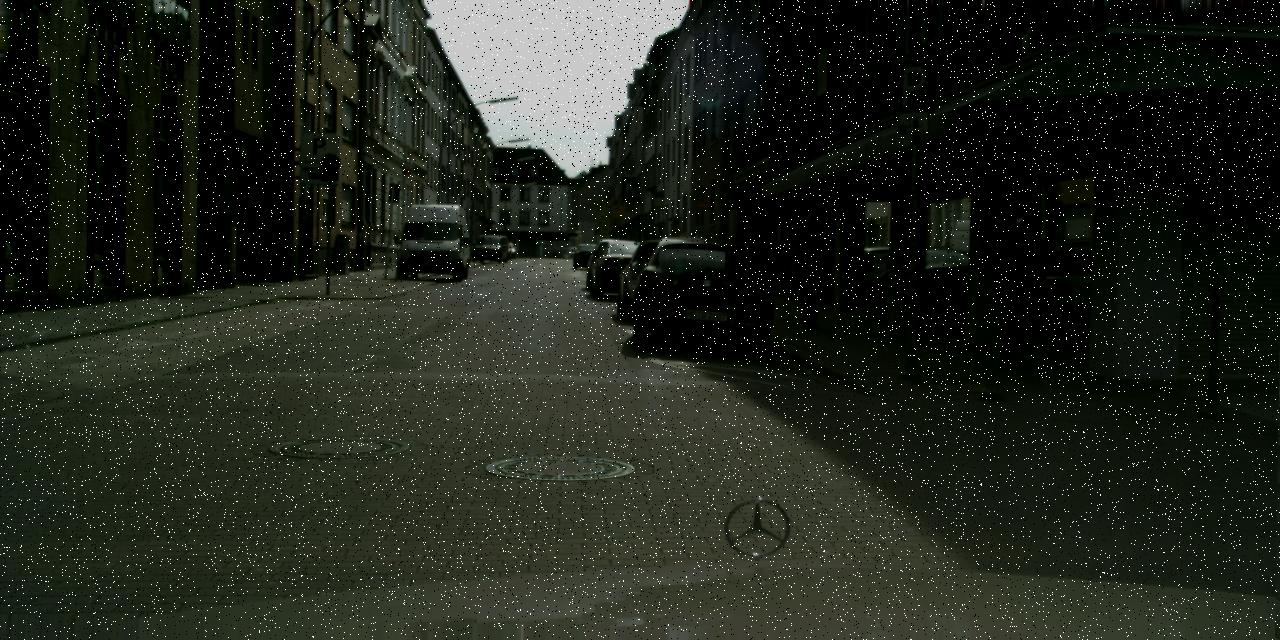ped: (789, 209, 837, 327)
